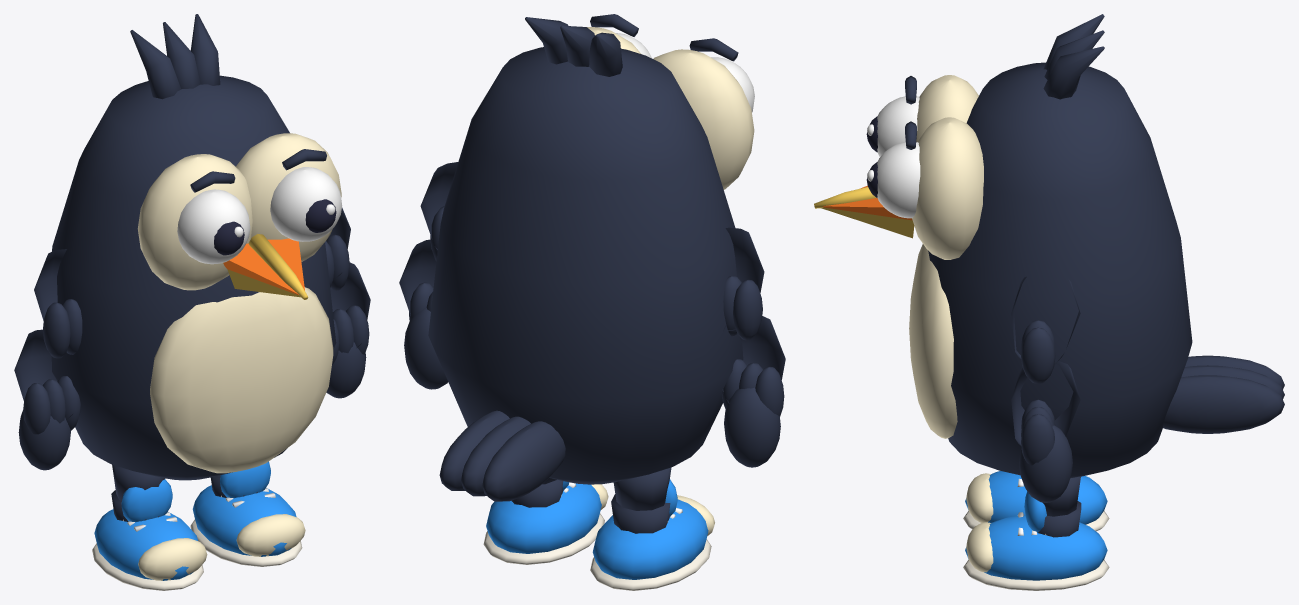
The model's file is pip.glb.
The picture shows the model from 3 angles, left to right: view 1: azimuth 30°, elevation 25°; view 2: azimuth 150°, elevation 25°; view 3: azimuth 270°, elevation 25°; orthographic projection. The views are drawn at different scales.
Parts seen in each view (by area): view 1: Belly bib.001, Lace.010, Lace.015, Swept crest.001, Feather tip.005, Eye white.012, Eye white.013, Feather tip.001, Feather tip.013, Wing tip.002, Knee pad.012, Knee pad.013 (+8 smaller); view 2: Belly bib.001, Tail feather.001, Lace.010, Lace.015, Feather tip.005, Swept crest.001, Wing tip.002, Feather tip.001, Wing tip.003, Feather tip.013, Leg.011, Knee pad.012 (+5 smaller); view 3: Belly bib.001, Lace.015, Tail feather.001, Lace.010, Feather tip.013, Swept crest.001, Eye white.013, Wing tip.003, Feather tip.010, Eye white.012, Knee pad.013, Lower bill (+1 smaller).
Boxes of the visible parts, x1,y1,x2,y2 form: Belly bib.001: [51, 75, 341, 480]; Lace.010: [92, 509, 207, 590]; Lace.015: [190, 485, 305, 566]; Swept crest.001: [130, 14, 220, 99]; Feather tip.005: [14, 329, 80, 434]; Eye white.012: [177, 189, 250, 264]; Eye white.013: [270, 167, 342, 241]; Feather tip.001: [34, 249, 82, 358]; Feather tip.013: [330, 262, 370, 364]; Wing tip.002: [18, 410, 70, 470]; Knee pad.012: [111, 479, 172, 522]; Knee pad.013: [210, 461, 270, 498]; Belly bib.001: [428, 27, 754, 484]; Tail feather.001: [439, 410, 565, 501]; Lace.010: [590, 495, 714, 590]; Lace.015: [483, 482, 608, 564]; Feather tip.005: [722, 316, 785, 416]; Swept crest.001: [525, 17, 622, 76]; Wing tip.002: [724, 387, 780, 467]; Feather tip.001: [723, 227, 764, 340]; Wing tip.003: [404, 307, 447, 389]; Feather tip.013: [399, 239, 436, 320]; Leg.011: [613, 467, 671, 510]; Knee pad.012: [611, 479, 677, 533]; Belly bib.001: [814, 62, 1192, 477]; Lace.015: [963, 512, 1109, 590]; Tail feather.001: [1163, 355, 1284, 433]; Lace.010: [963, 471, 1109, 531]; Feather tip.013: [1011, 360, 1080, 465]; Swept crest.001: [1043, 14, 1104, 99]; Eye white.013: [877, 142, 920, 218]; Wing tip.003: [1019, 425, 1072, 502]; Feather tip.010: [1011, 276, 1080, 383]; Eye white.012: [877, 96, 919, 156]; Knee pad.013: [1024, 491, 1081, 537]; Lower bill: [821, 207, 914, 238].
Size of the model in its own units: 1.06 by 1.5 by 1.22.
